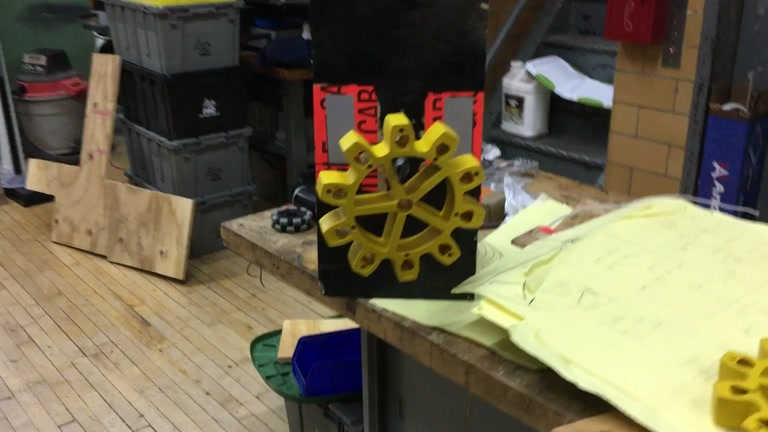gear: (315, 112, 487, 282)
